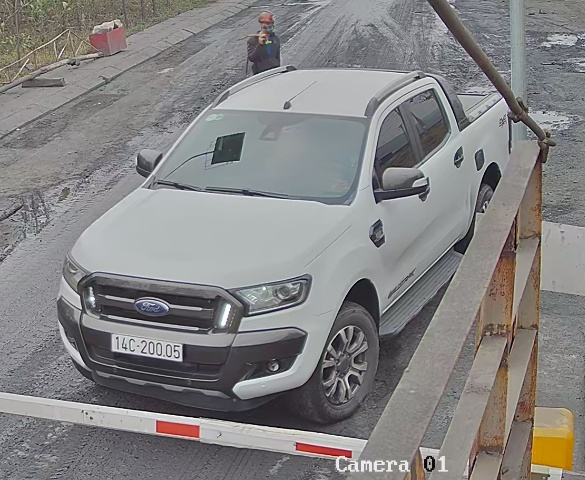vehicle plate: (105, 329, 186, 362)
